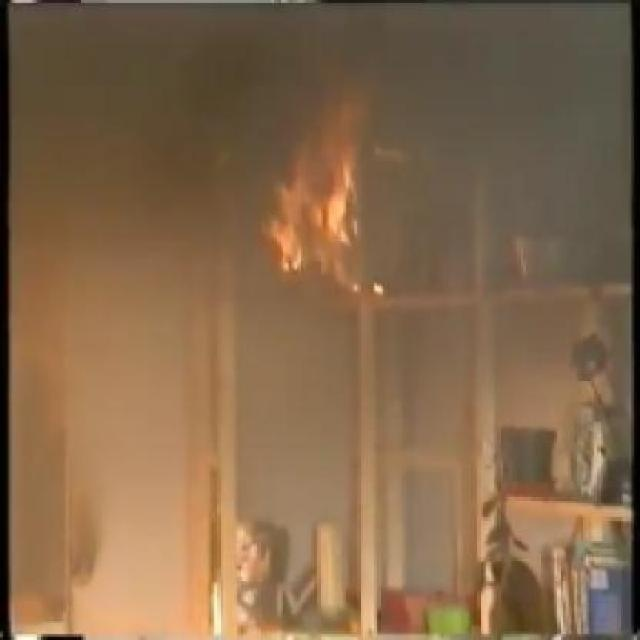fire: (250, 101, 396, 280)
